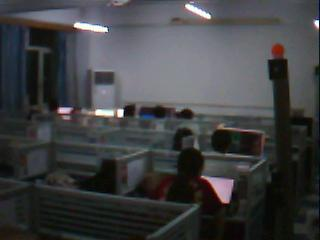oball: (271, 43, 283, 55)
